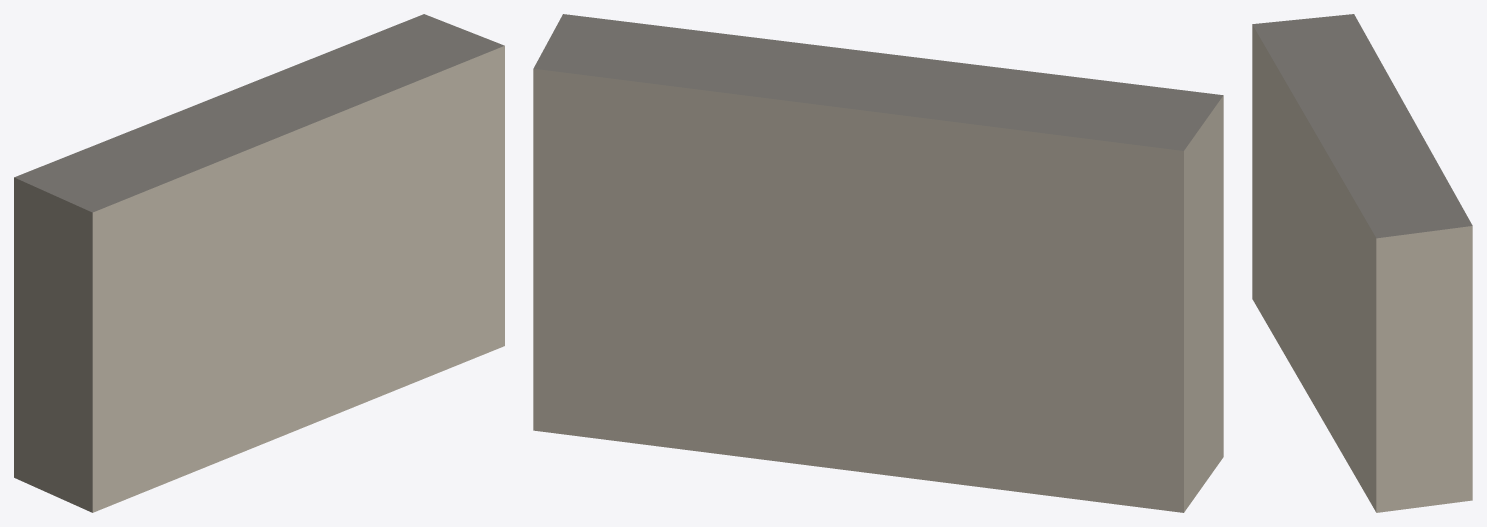
The picture shows the model from 3 angles, left to right: view 1: azimuth 30°, elevation 25°; view 2: azimuth 150°, elevation 25°; view 3: azimuth 270°, elevation 25°; orthographic projection. The views are drawn at different scales.
Parts seen in each view (by area): view 1: HP-w505643567; view 2: HP-w505643567; view 3: HP-w505643567.
Boxes of the visible parts, <box> form: HP-w505643567: <box>14,14,504,512</box>; HP-w505643567: <box>533,14,1223,512</box>; HP-w505643567: <box>1252,14,1472,512</box>.
Bounding box in the file's own units: 21.03 × 12 × 8.74.
